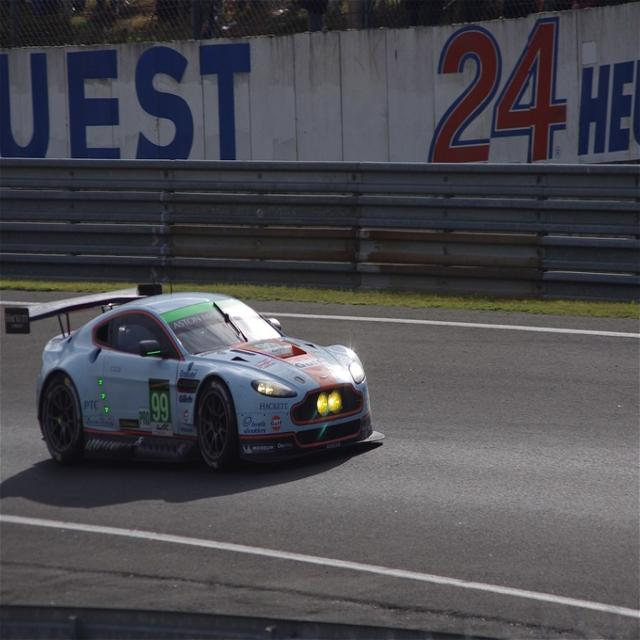car: (21, 285, 380, 478)
